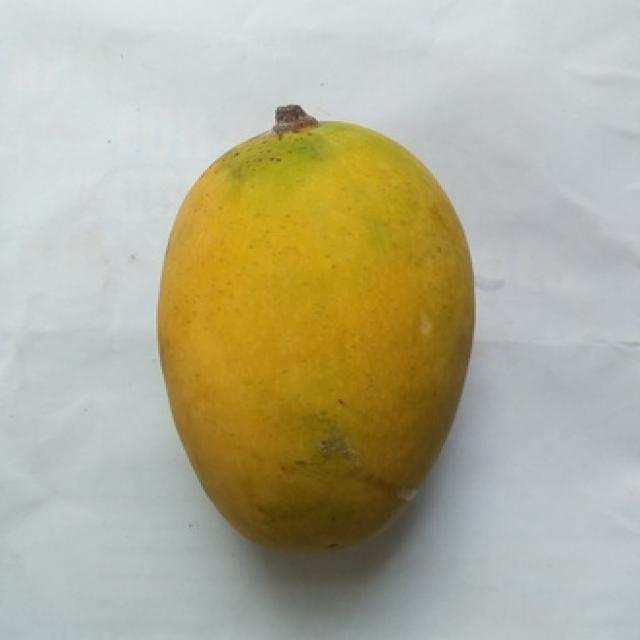Mango: (160, 107, 472, 551)
